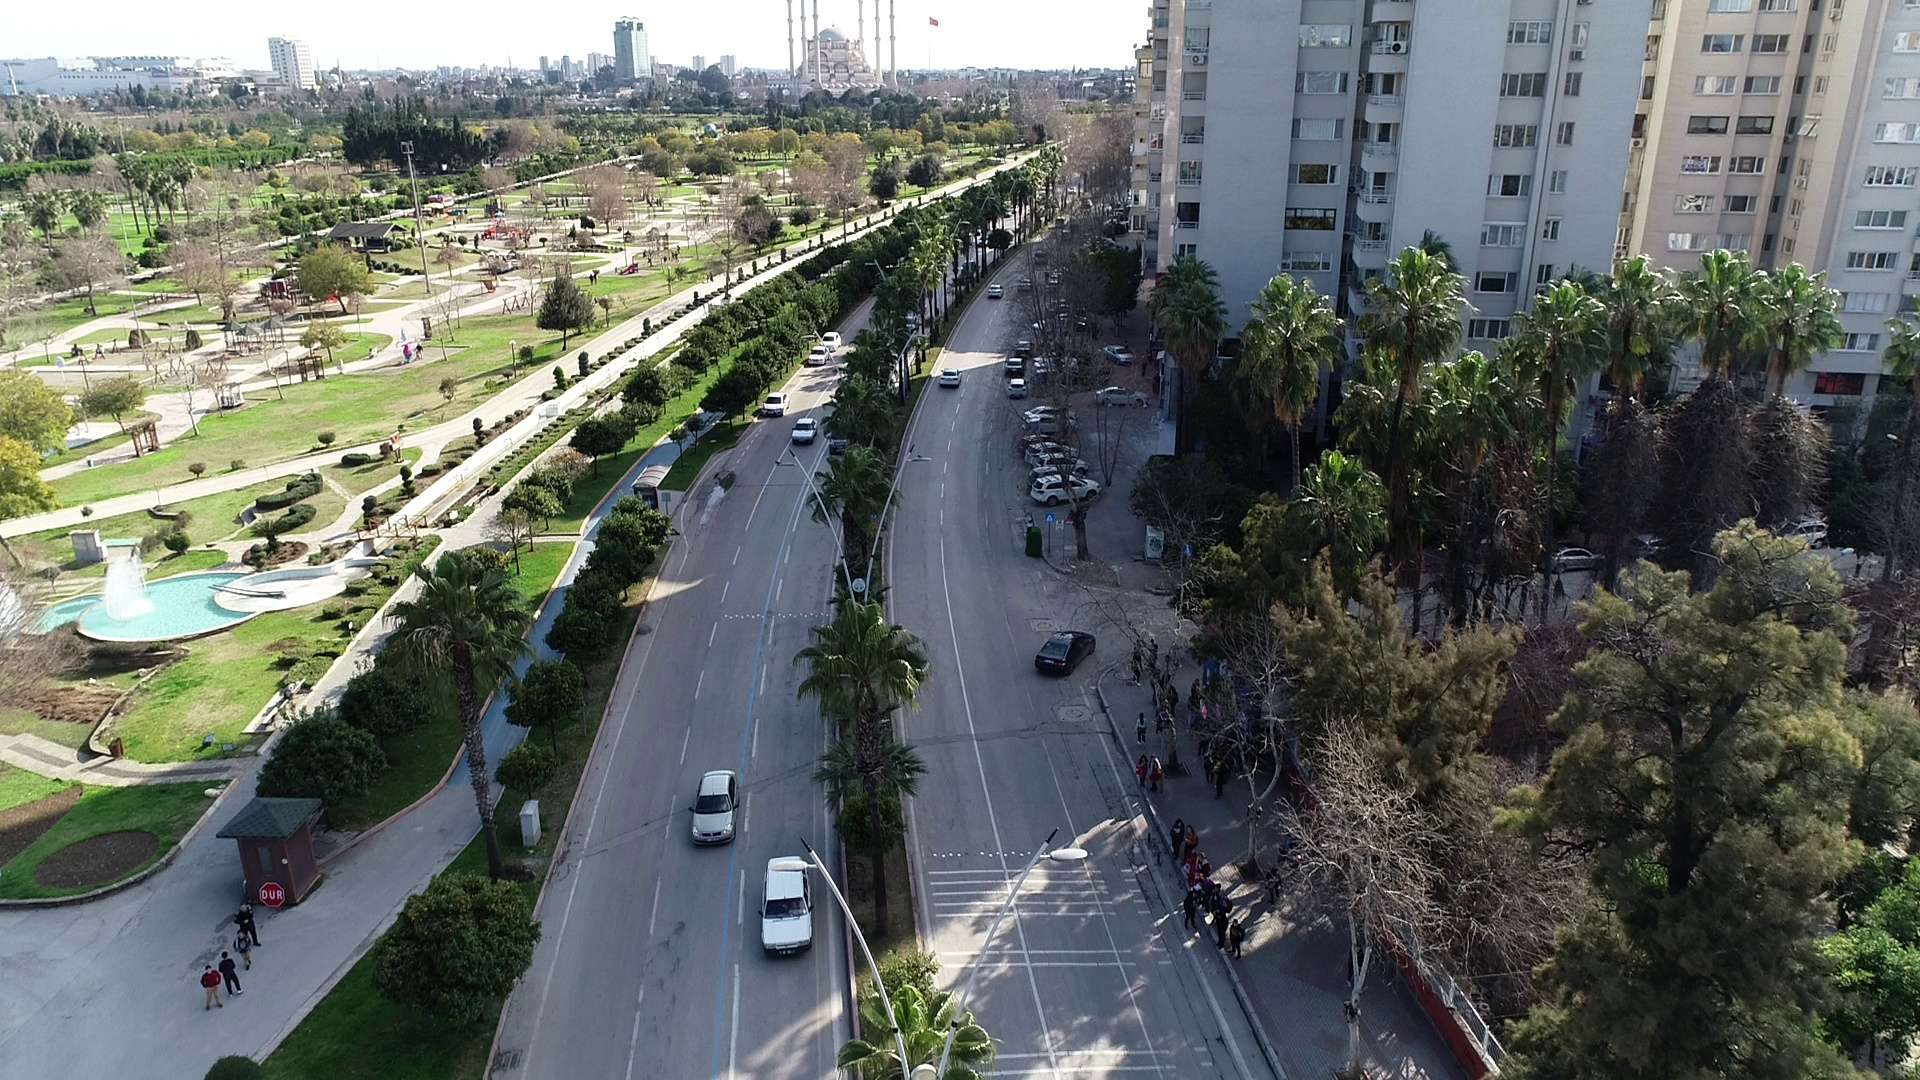car: (757, 850, 823, 961), (681, 759, 744, 851), (1032, 626, 1098, 679), (1534, 538, 1608, 573), (1027, 473, 1102, 508), (1026, 439, 1084, 466), (1094, 384, 1150, 410), (1021, 403, 1075, 427), (791, 414, 819, 449), (761, 388, 790, 419), (1101, 342, 1134, 368), (1005, 376, 1031, 400), (937, 366, 965, 389), (807, 343, 830, 368), (817, 328, 841, 351), (1003, 356, 1026, 375), (986, 282, 1004, 301)
person: (232, 900, 271, 948), (198, 962, 231, 1014), (216, 948, 249, 998), (231, 928, 262, 968), (1229, 917, 1250, 958), (1183, 887, 1201, 933), (1148, 751, 1169, 792), (1182, 822, 1202, 860), (1211, 906, 1229, 949), (1170, 814, 1185, 860), (1133, 709, 1149, 745), (1135, 751, 1149, 790)
